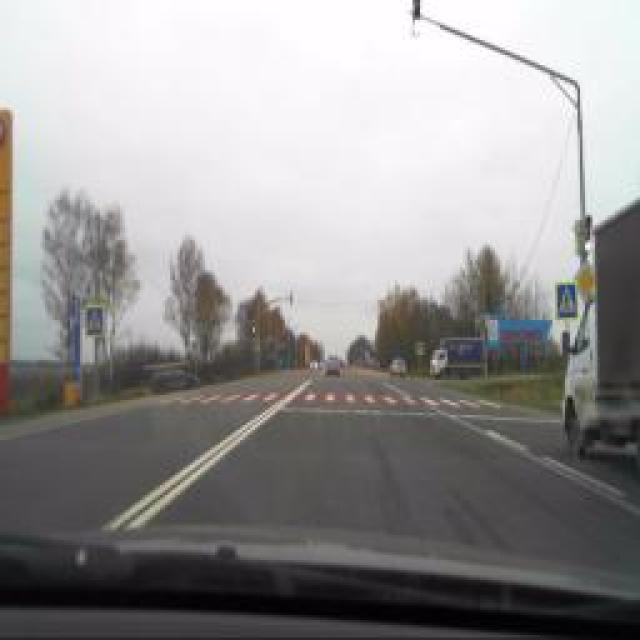sign: (572, 254, 598, 306)
